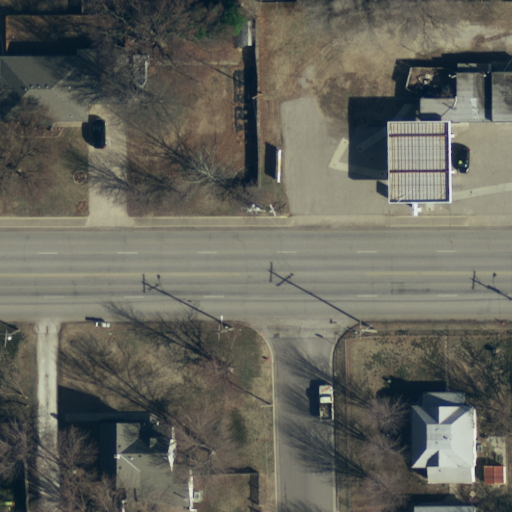DT: (349, 315, 380, 343), (214, 310, 238, 344)
